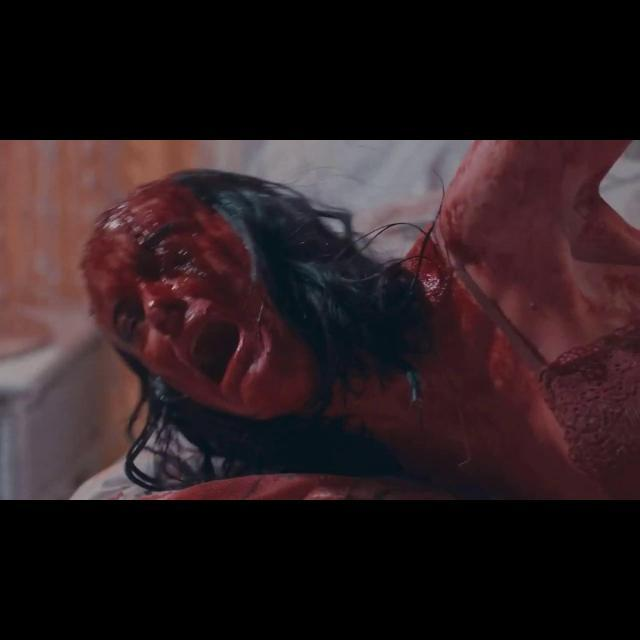blood: (327, 141, 640, 498), (82, 176, 320, 420), (153, 474, 432, 500)
